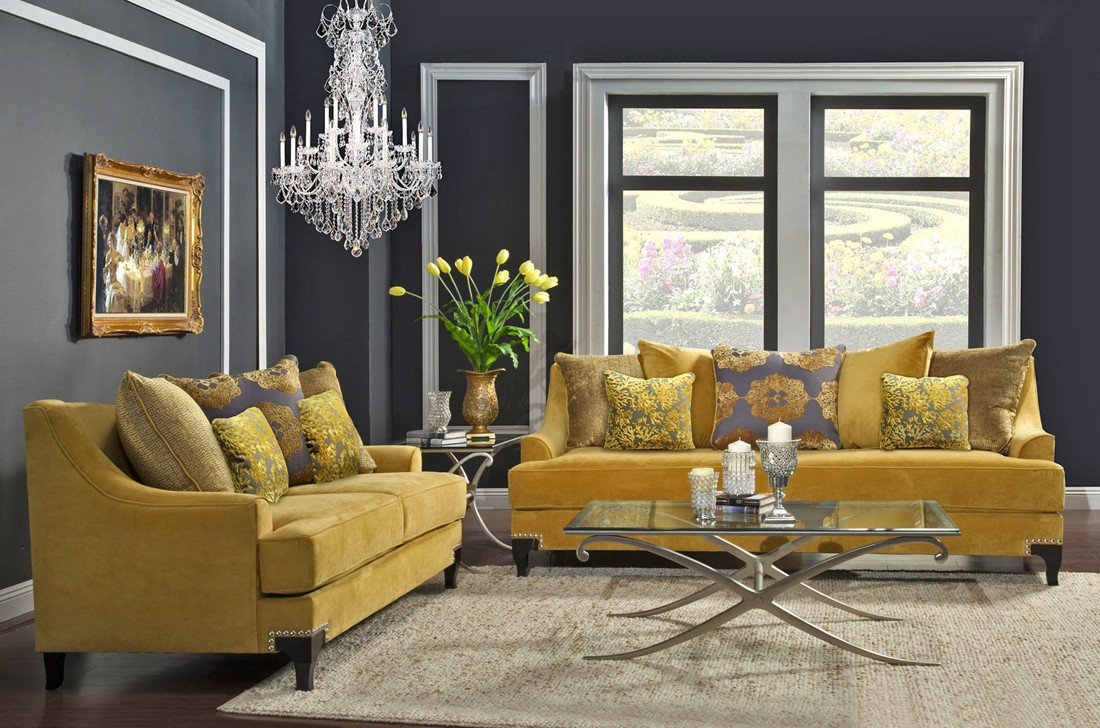chairs: (19, 357, 470, 698), (507, 337, 1075, 585)
